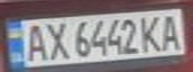2: (121, 15, 142, 55)
4: (87, 17, 109, 56), (106, 16, 127, 56)
6: (69, 18, 93, 58)
A: (18, 20, 51, 63), (157, 11, 184, 51)
K: (139, 12, 166, 53)
X: (42, 19, 69, 61)
